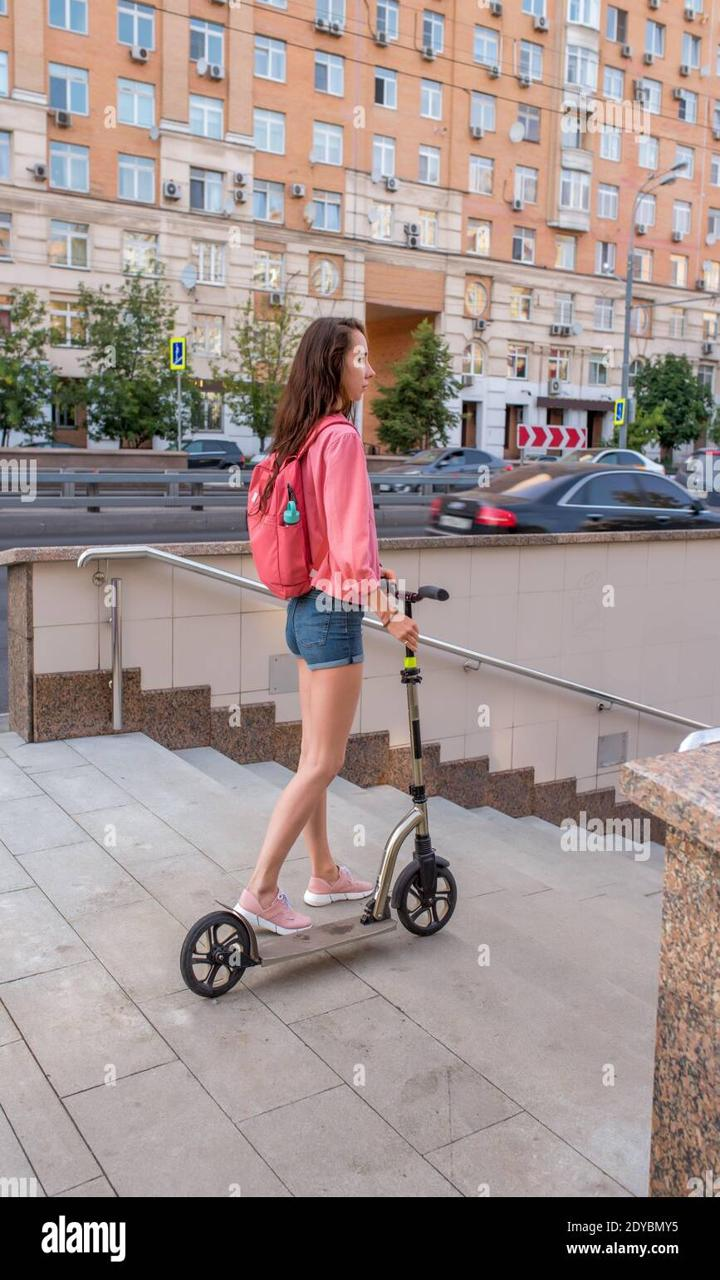Traffic sign: (510, 417, 595, 456), (162, 331, 195, 388)
pedestrian: (243, 301, 399, 944)
scooter: (164, 569, 568, 992)
vehicle: (419, 449, 720, 541)
